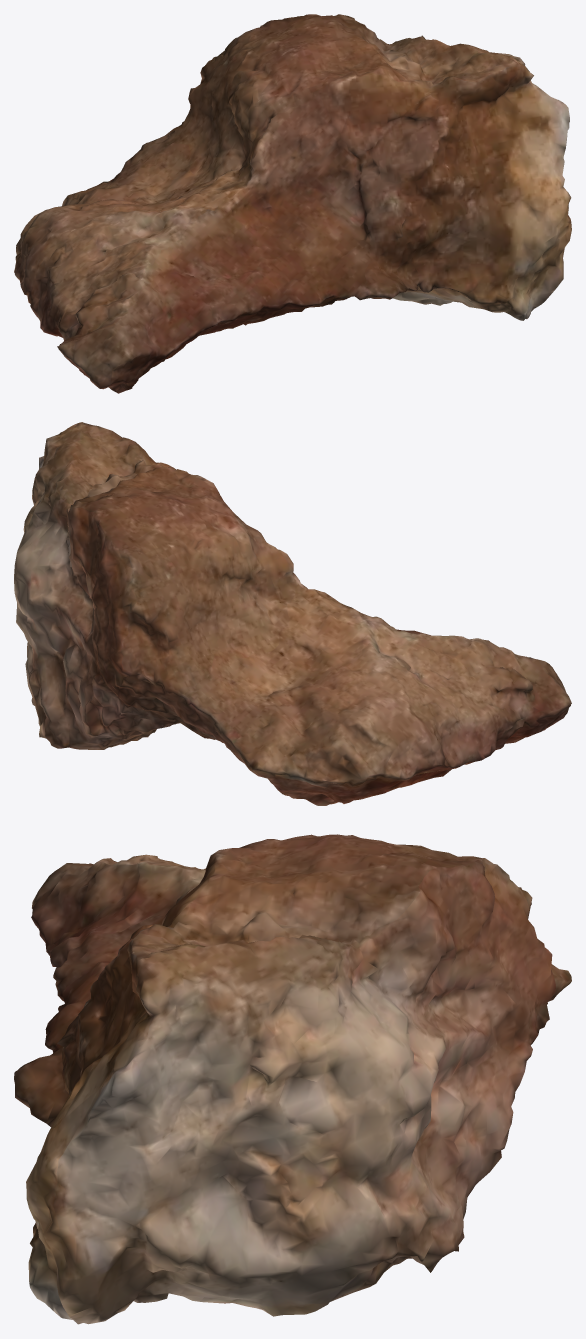
The model's file is stone_01.glb.
The picture shows the model from 3 angles, top to bottom: view 1: azimuth 30°, elevation 25°; view 2: azimuth 150°, elevation 25°; view 3: azimuth 270°, elevation 25°; orthographic projection. The views are drawn at different scales.
Visible parts, largest first — view 1: stone_01; view 2: stone_01; view 3: stone_01.
Boxes of the visible parts, x1,y1,x2,y2 form: stone_01: (14, 14, 571, 393); stone_01: (14, 422, 571, 805); stone_01: (14, 834, 571, 1324).
Bounding box in the file's own units: 0.1469 × 0.0718 × 0.089.
Materials: 1 (1 with a texture image).
